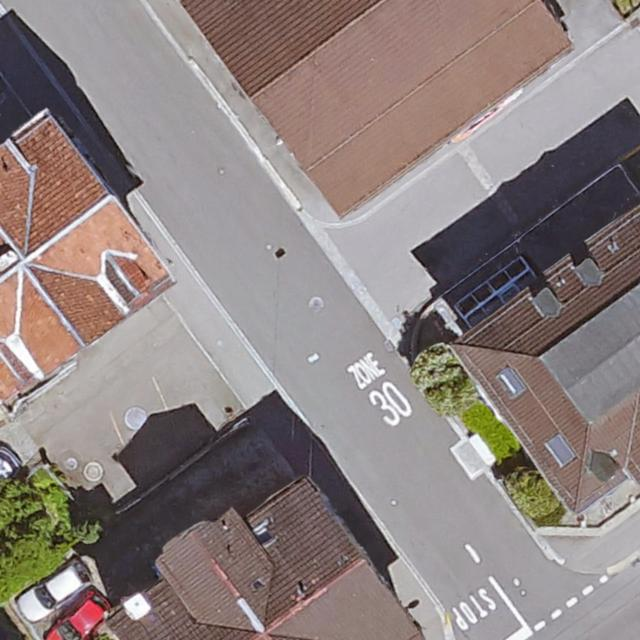tree: (0, 527, 63, 588), (0, 483, 41, 540)
